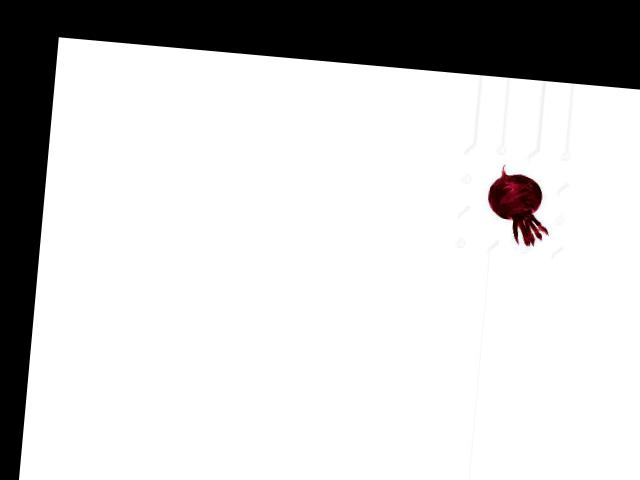beet: (483, 162, 553, 247)
